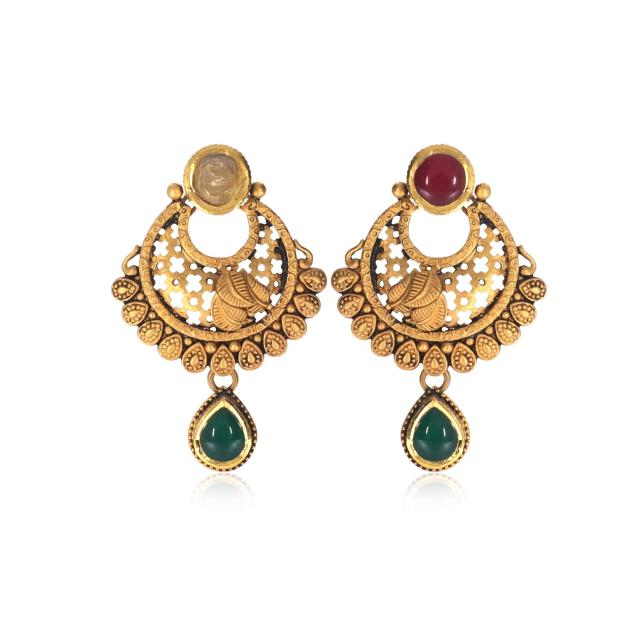missing gem: (192, 153, 240, 206)
